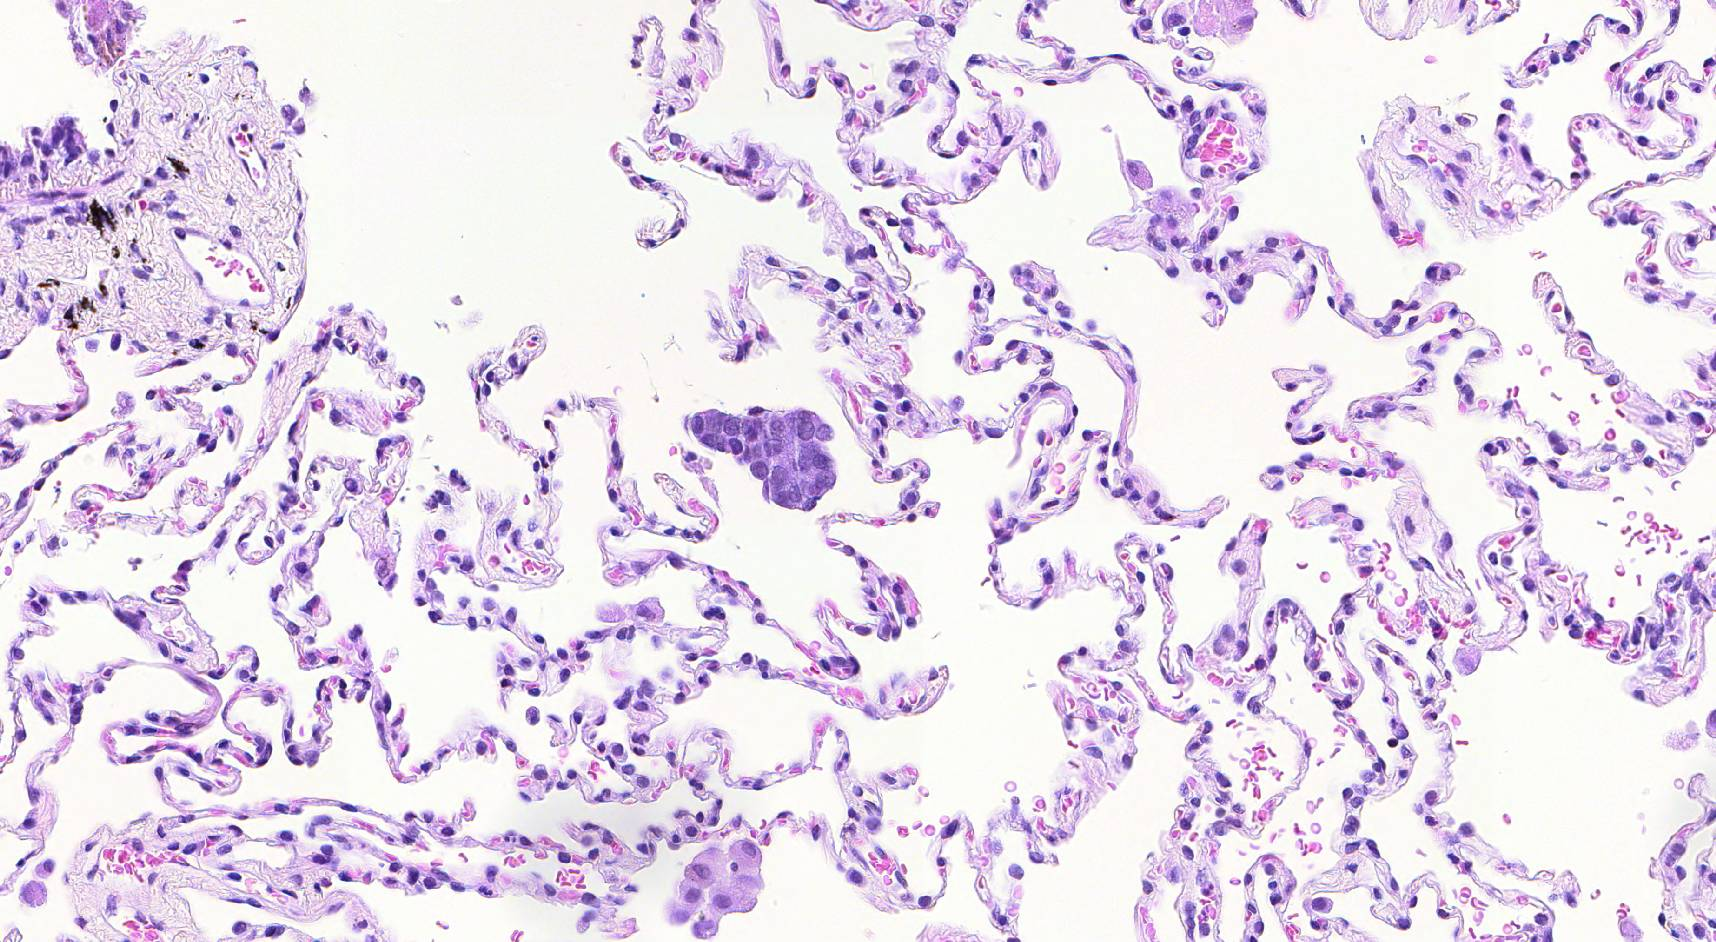stas: (686, 393, 846, 515), (656, 835, 779, 941)
